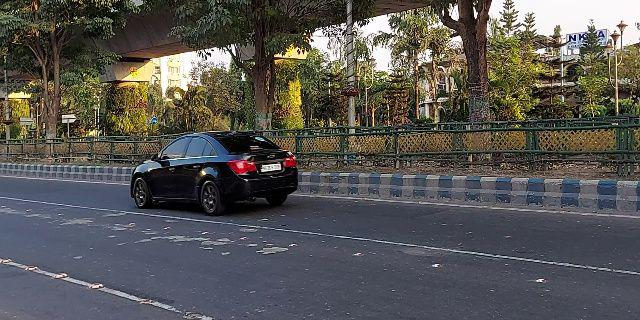Car: (129, 129, 299, 216)
